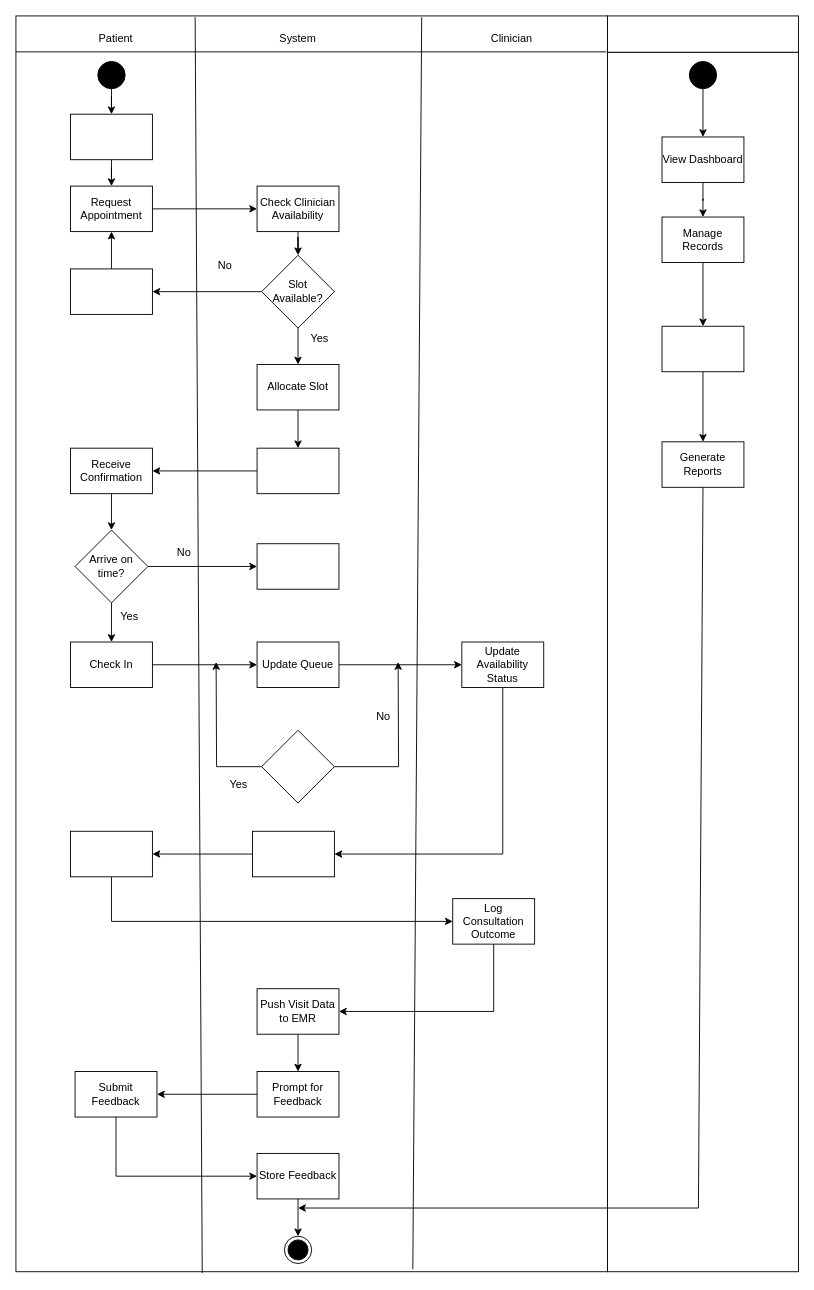
The diagram is 814 pixels wide and 1290 high, and some of its shapes have lost their labels. The centre of each missing label's shape, as x and y in pixels:
Administrator: (703,33)
Configure Slots: (702,348)
Emergency?: (297,766)
Enter Consultation: (111,853)
Logs In: (111,136)
Notify Next Patient: (293,853)
Notify Unavailability: (111,291)
Release Slot: (297,566)
Send Confirmation: (297,470)
